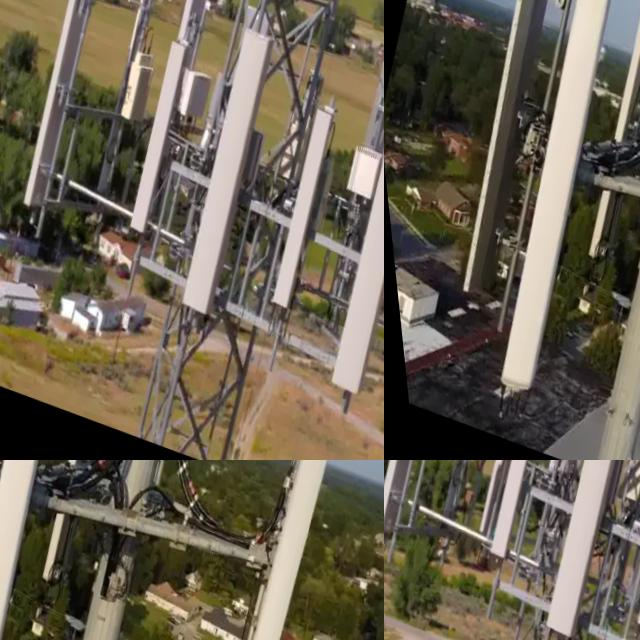GSM Antenna: (432, 0, 640, 403), (393, 0, 611, 311), (142, 3, 305, 336), (187, 460, 384, 640), (290, 75, 384, 398), (0, 0, 130, 211), (91, 26, 206, 245), (242, 88, 354, 311), (507, 460, 640, 640), (552, 0, 640, 269), (0, 460, 120, 640), (311, 40, 384, 254), (7, 460, 134, 583), (129, 0, 232, 142), (461, 460, 572, 582), (437, 460, 559, 546), (384, 460, 473, 560), (609, 460, 640, 636)
